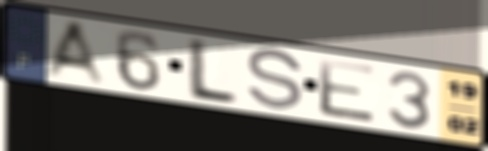3: (383, 69, 434, 131)
6: (113, 29, 164, 93)
A: (40, 19, 112, 90)
E: (315, 56, 380, 126)
L: (182, 36, 243, 107)
S: (244, 47, 307, 114)
